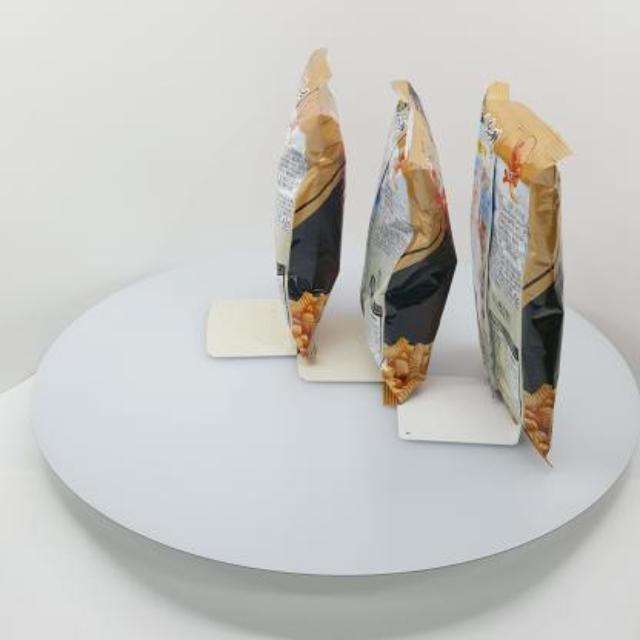snack_bag: (262, 32, 576, 478)
